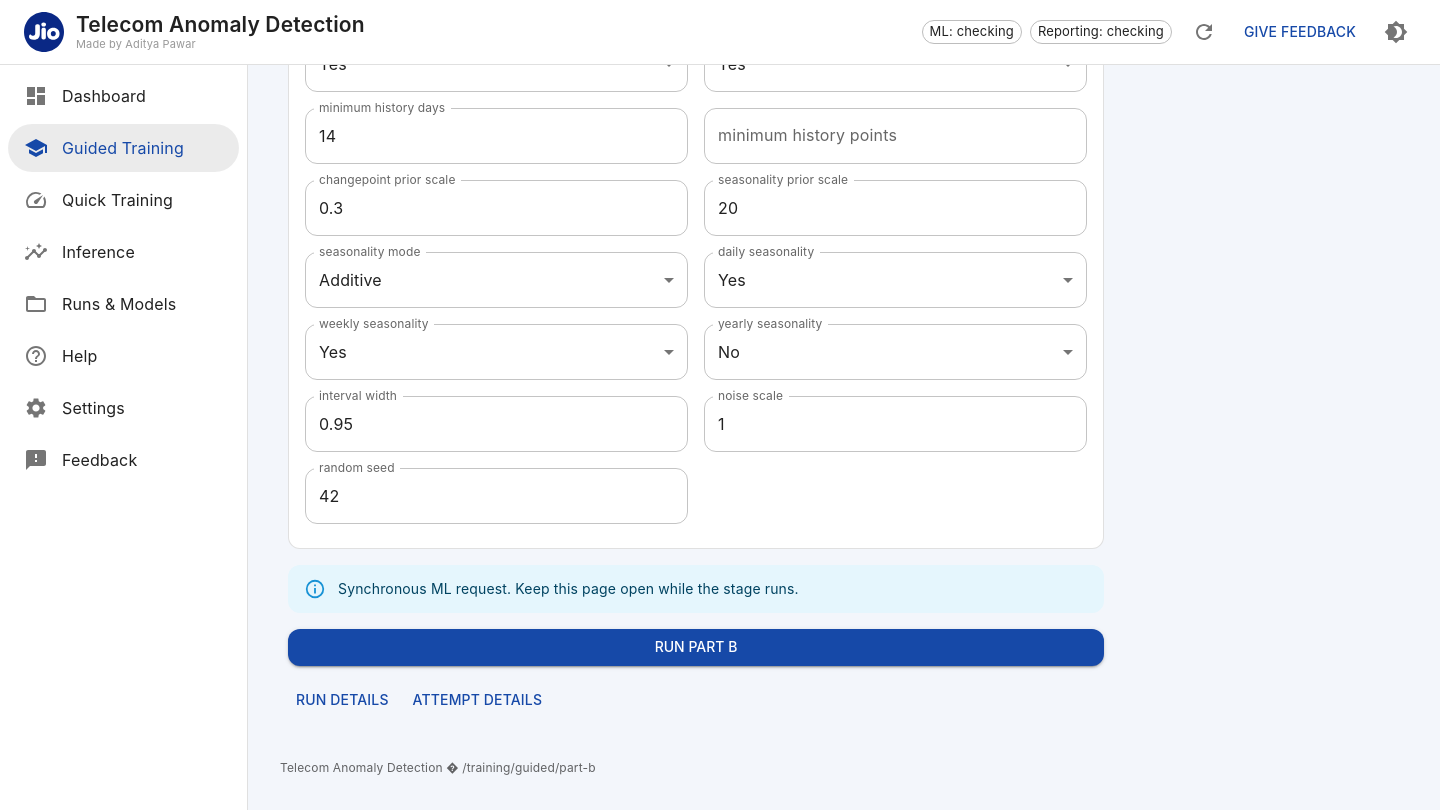
Test: Part B workspace › shows structured HTTP 409 errors
This screenshot has width=1440, height=810.
(page scrolled)
Click the button "Run Part B".
click(696, 647)  # box [288, 629, 1104, 666]
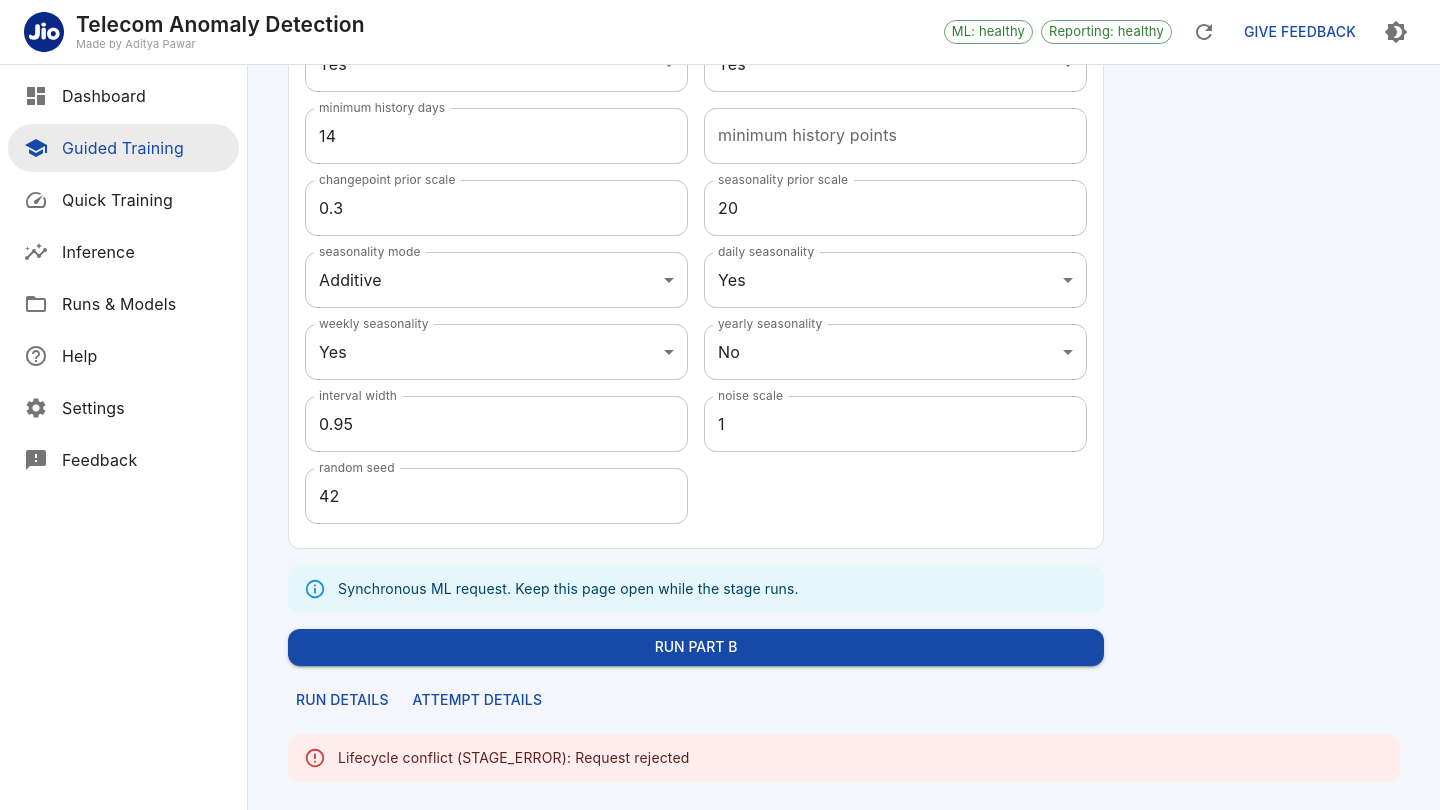
Check: the text "Lifecycle conflict (STAGE_ERROR): Request rejected" is shown, box [338, 749, 690, 766]
